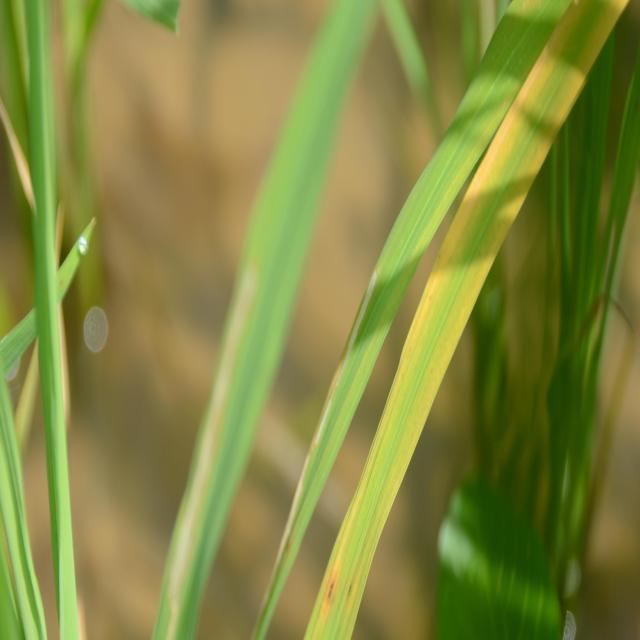Rice Tungro: (283, 13, 622, 640)
